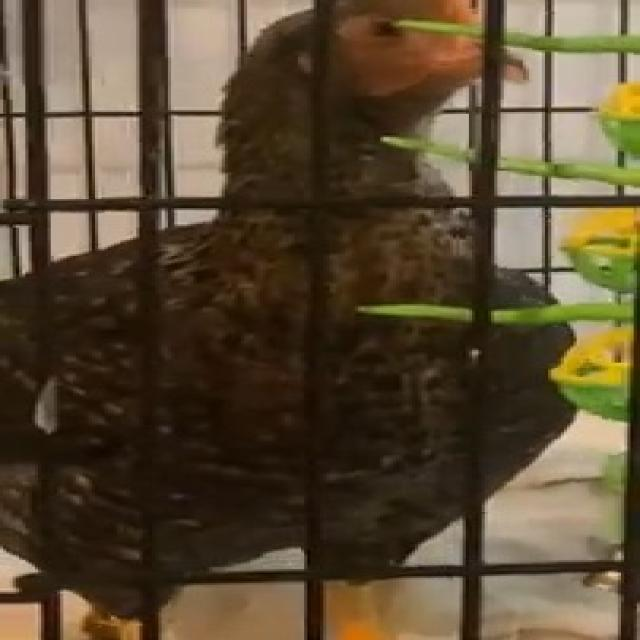Breathing: (0, 0, 558, 640)
